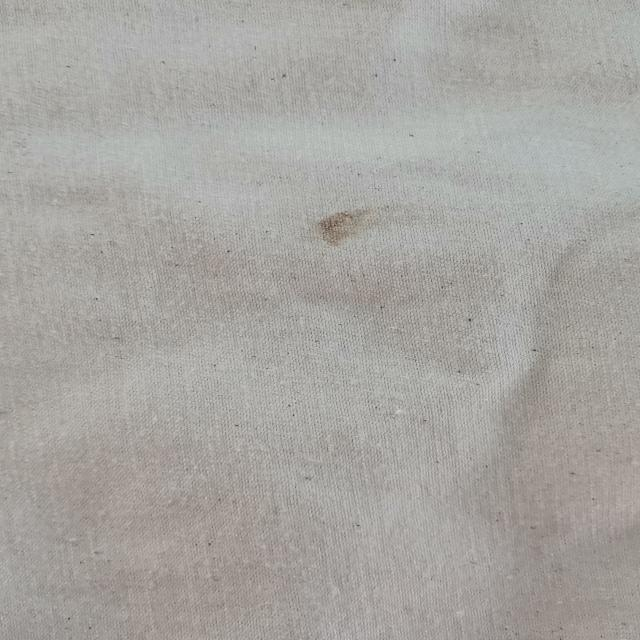taaaches: (272, 200, 390, 248)
